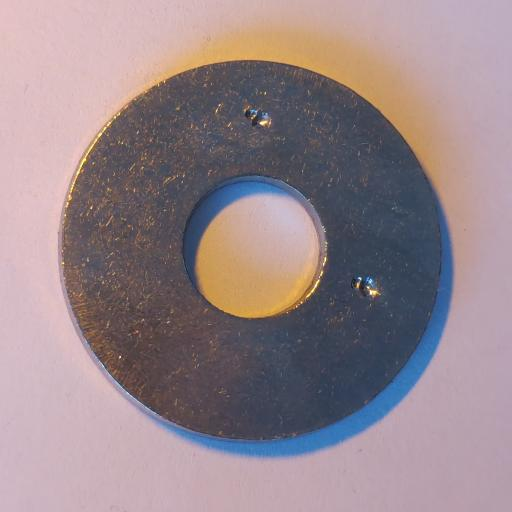circular_cavity: (351, 276, 383, 299), (245, 108, 273, 129)
